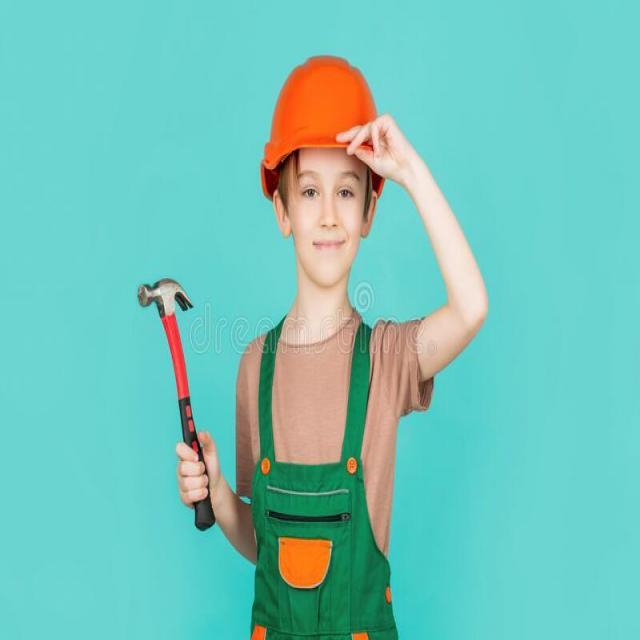hammer: (134, 264, 222, 542)
